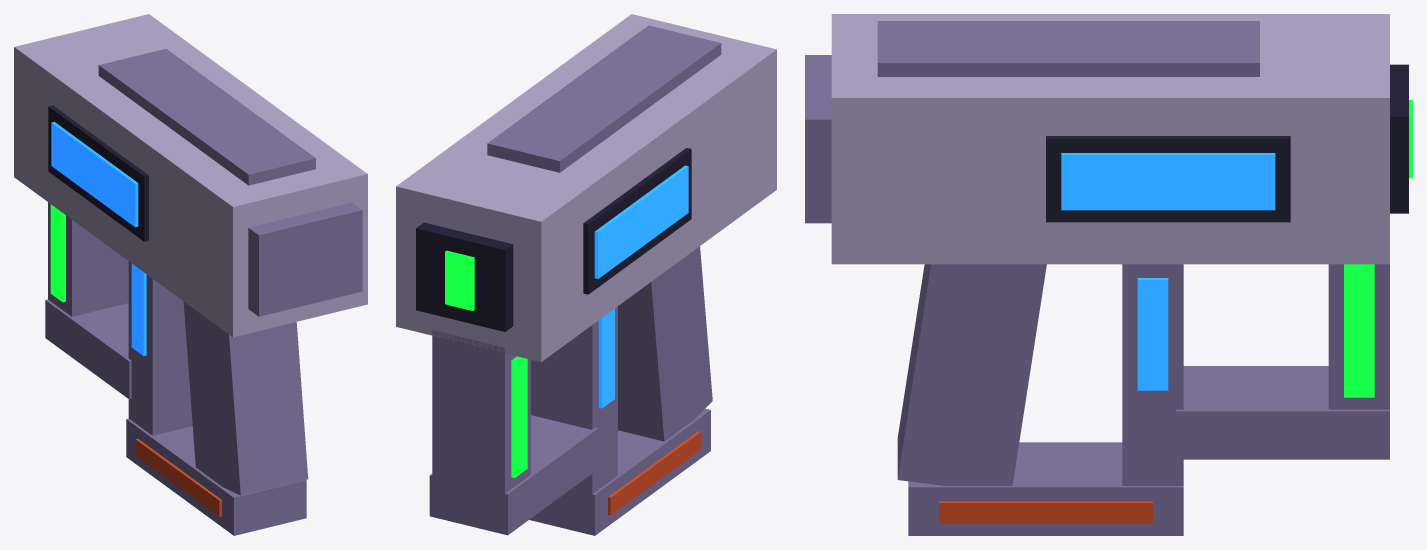
Rendered from stun_gun.lod1.glb.
The picture shows the model from 3 angles, left to right: view 1: azimuth 30°, elevation 25°; view 2: azimuth 150°, elevation 25°; view 3: azimuth 270°, elevation 25°; orthographic projection. The views are drawn at different scales.
Visible parts, largest first — view 1: item.stun_gun.body; view 2: item.stun_gun.body; view 3: item.stun_gun.body.
Boxes of the visible parts, bbox=[...] form: item.stun_gun.body: bbox=[14, 14, 367, 535]; item.stun_gun.body: bbox=[396, 14, 776, 535]; item.stun_gun.body: bbox=[805, 14, 1412, 535].
Bounding box in the file's own units: 0.1813 × 0.425 × 0.4969.
